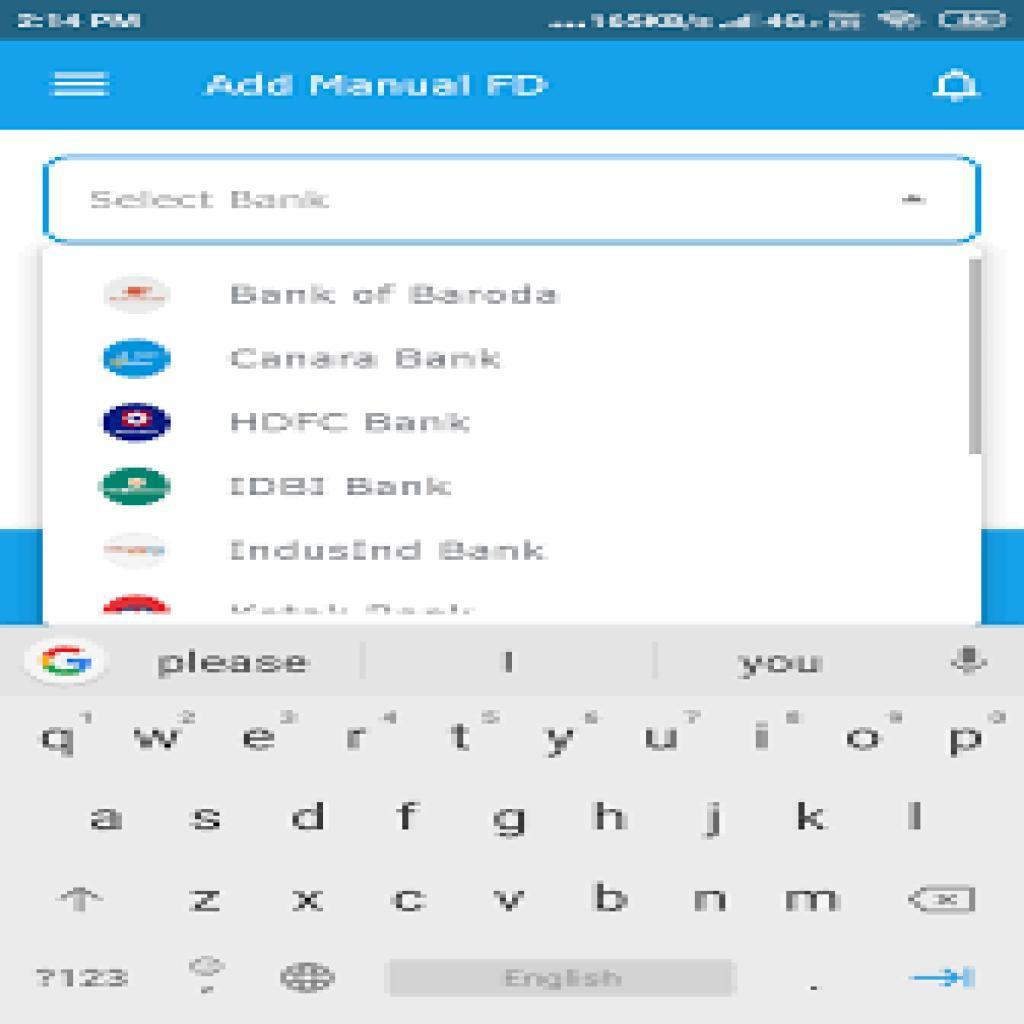dropdown: (47, 157, 978, 241)
